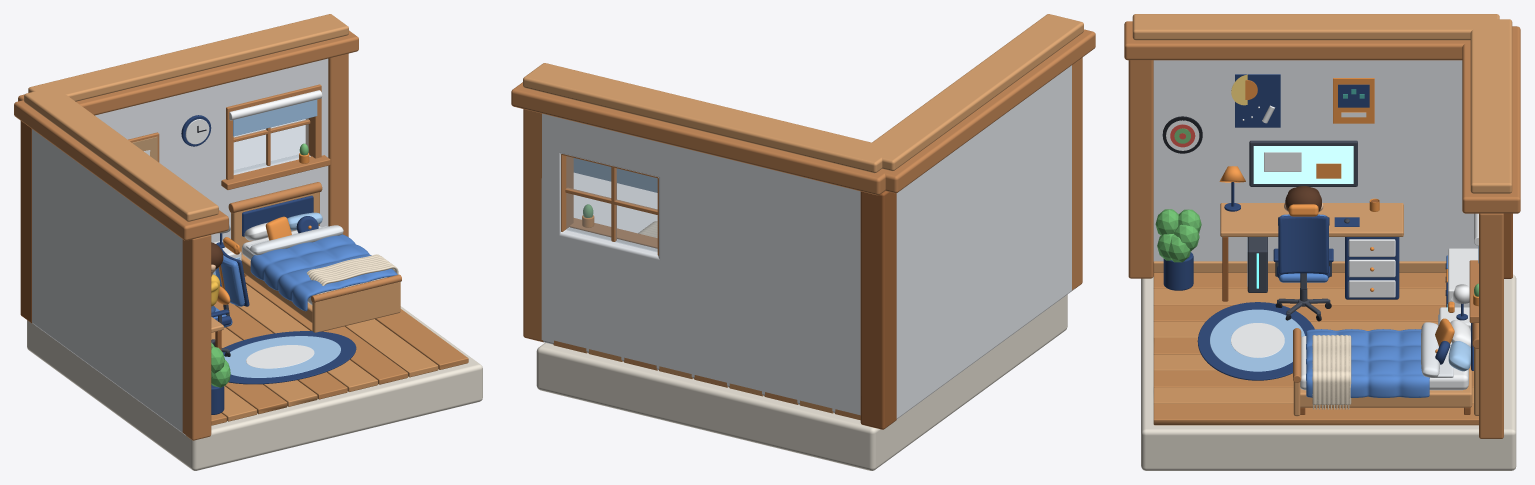
The model's file is cozy_room.glb.
3 views of the same model, side by side, from view 1: azimuth 30°, elevation 25°; view 2: azimuth 150°, elevation 25°; view 3: azimuth 270°, elevation 25° (orthographic). The views are drawn at different scales.
Visible parts, largest first — view 1: Walls, Beams, Floor, Bed, Window, Rug, Bedding, Chair, Plant, Clock, Person, Pinboard; view 2: Walls, Beams, Floor, Window; view 3: Floor, Walls, Beams, Bed, Desk, Rug, Monitor, Chair, Bedding, Plant, PosterSpace, PosterGame (+7 smaller).
Part boxes in pixels (x1,y1,x2,y2): Walls: (20, 58, 328, 435); Beams: (14, 14, 358, 440); Floor: (27, 275, 482, 470); Bed: (228, 182, 401, 332); Window: (221, 84, 330, 189); Rug: (222, 331, 356, 384); Bedding: (244, 212, 398, 285); Chair: (211, 237, 249, 356); Plant: (211, 343, 230, 414); Clock: (181, 115, 211, 146); Person: (211, 242, 223, 312); Pinboard: (128, 132, 159, 162); Walls: (541, 65, 1075, 429); Beams: (511, 14, 1095, 342); Floor: (536, 294, 1067, 470); Window: (561, 154, 658, 255); Floor: (1141, 273, 1516, 470); Walls: (1153, 60, 1512, 278); Beams: (1124, 14, 1520, 438); Bed: (1293, 322, 1478, 416); Desk: (1220, 203, 1403, 301); Rug: (1197, 302, 1314, 380); Monitor: (1249, 140, 1357, 186); Chair: (1273, 204, 1333, 321); Bedding: (1312, 318, 1470, 409); Plant: (1155, 209, 1201, 290); PosterSpace: (1231, 74, 1366, 127); PosterGame: (1333, 78, 1374, 123).
Bounding box in the file's own units: 5.05 × 3.91 × 4.75.
4 materials, 4 textured.
